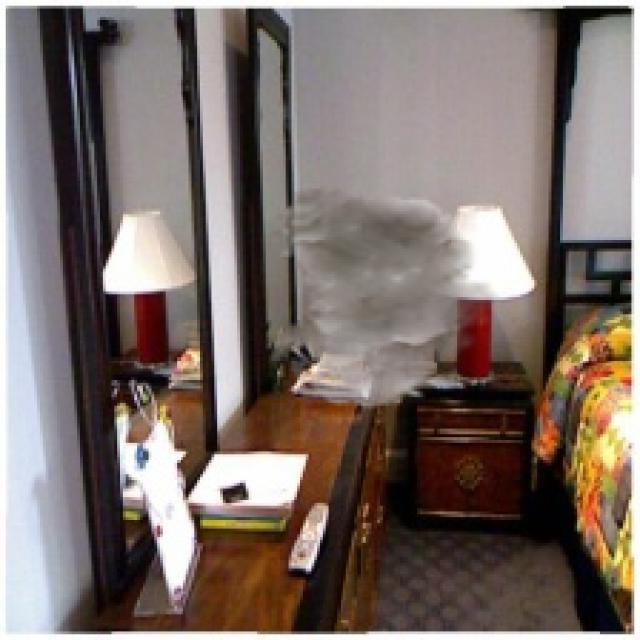smoke: (268, 185, 506, 408)
